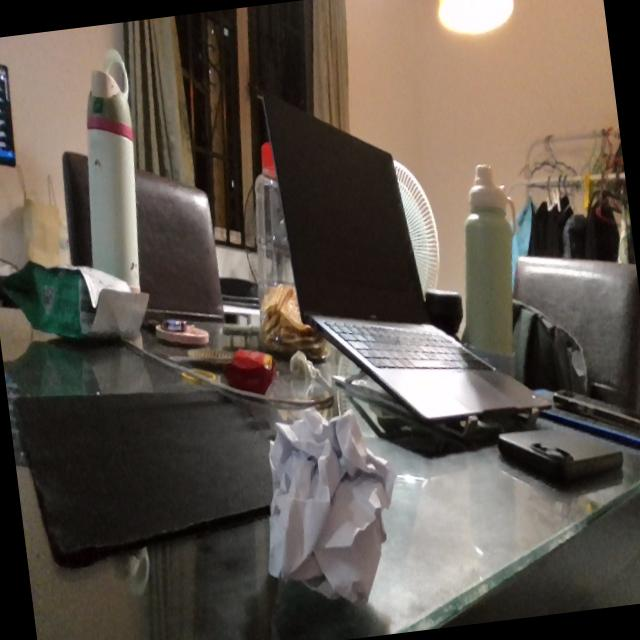crumpled_paper: (247, 398, 412, 617)
